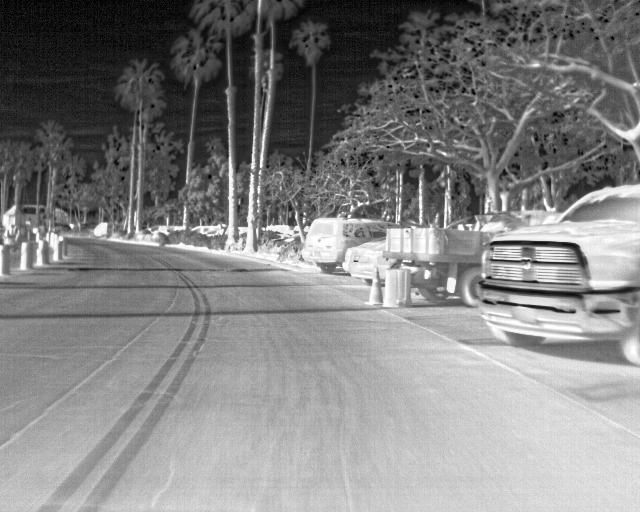car: (482, 184, 639, 366), (302, 214, 385, 267), (345, 235, 385, 278), (21, 204, 41, 228), (264, 222, 292, 236), (193, 223, 222, 236), (92, 220, 109, 235)
